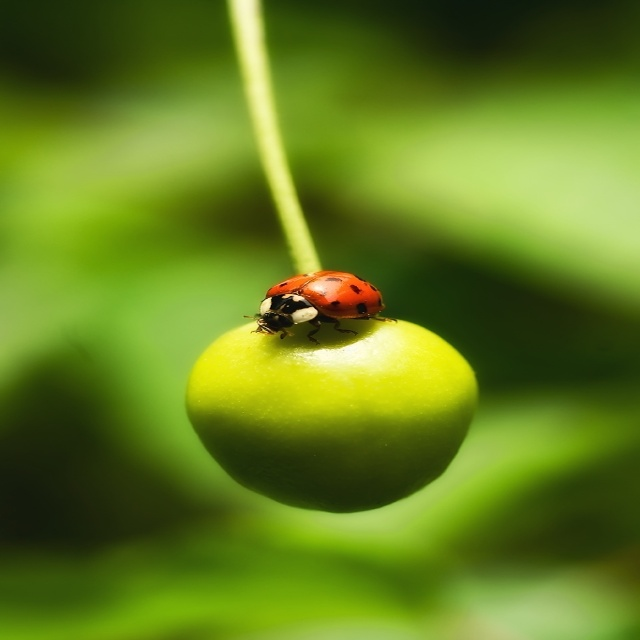Ladybug: (241, 270, 399, 341)
